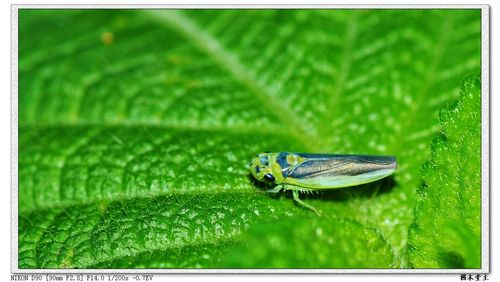Cicadellidae: (248, 152, 399, 213)
